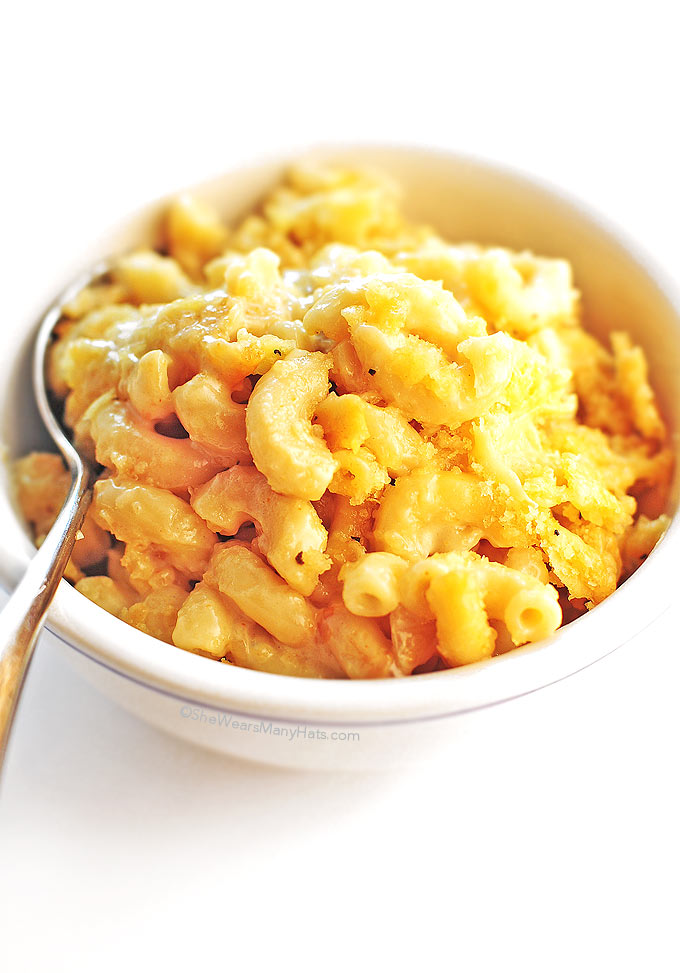macncheese: (15, 164, 669, 676)
